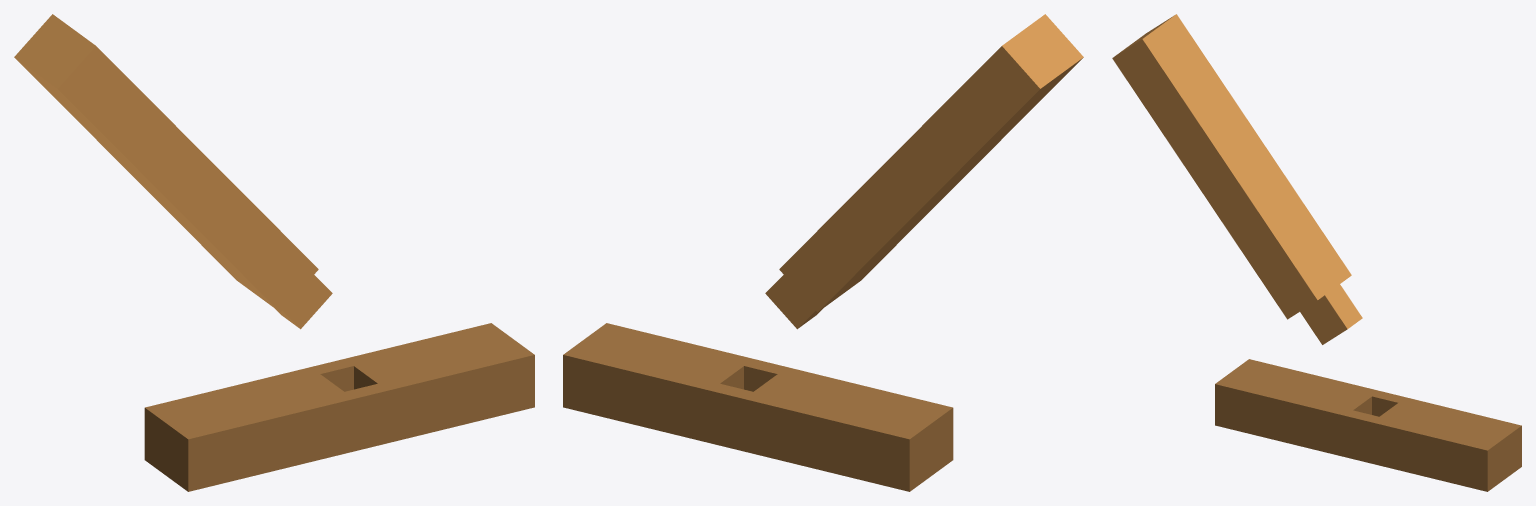
3 views of the same model, side by side, from view 1: azimuth 30°, elevation 25°; view 2: azimuth 150°, elevation 25°; view 3: azimuth 330°, elevation 25° (orthographic). The views are drawn at different scales.
Bounding box in the file's own units: 19 × 17.83 × 3.
